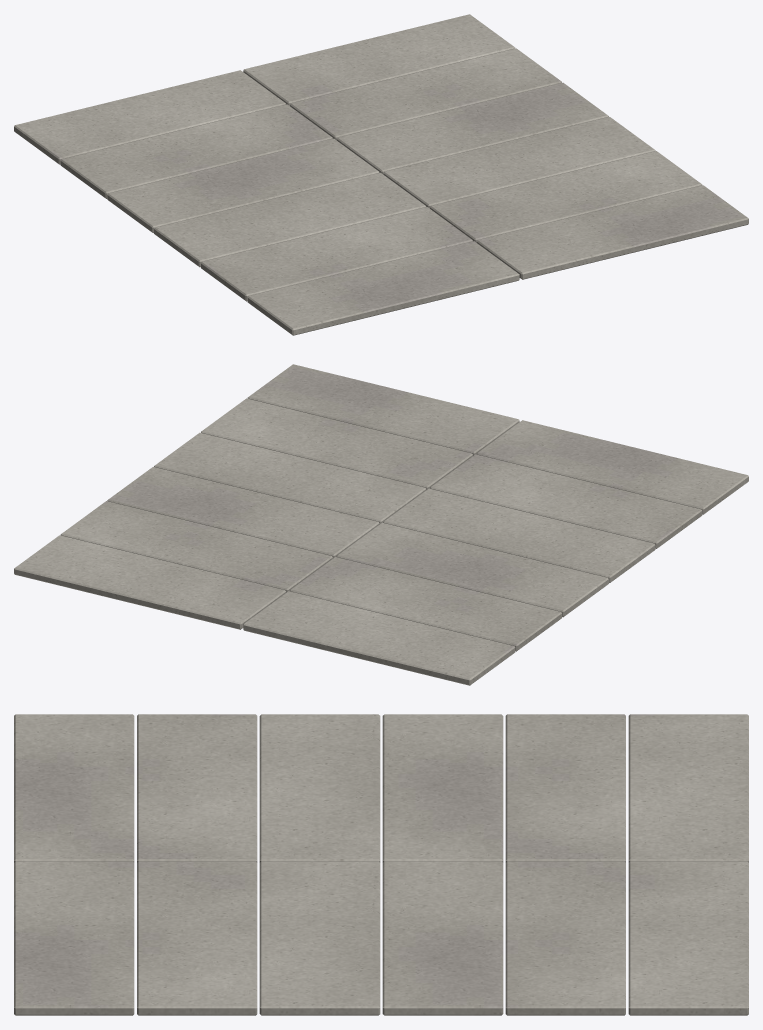
File: path_slab.glb
3 renders of one model, top to bottom at view 1: azimuth 30°, elevation 25°; view 2: azimuth 150°, elevation 25°; view 3: azimuth 270°, elevation 25°, orthographic. The views are drawn at different scales.
Parts seen in each view (by area): view 1: path_slab_concrete; view 2: path_slab_concrete; view 3: path_slab_concrete.
Part boxes in pixels (x1,y1,x2,y2): path_slab_concrete: [14, 14, 748, 335]; path_slab_concrete: [14, 364, 748, 685]; path_slab_concrete: [14, 714, 748, 1015].
Size of the model in its own units: 3.39 by 0.05 by 3.59.
1 material, 1 textured.
